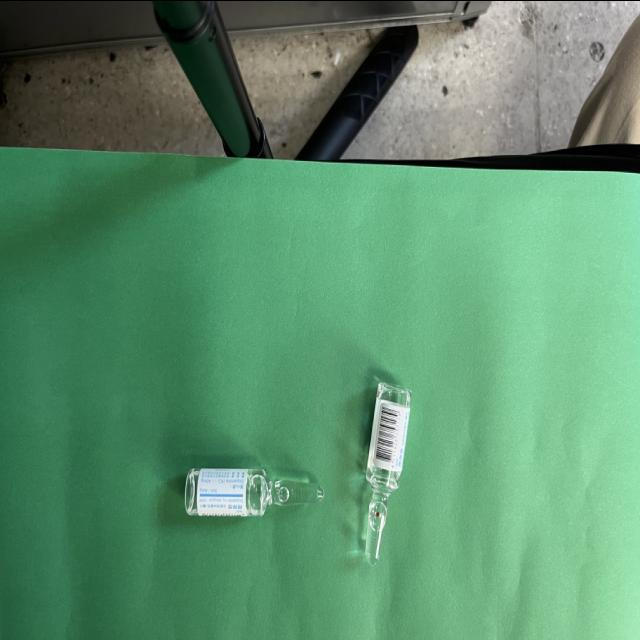Ampoules: (364, 381, 410, 565), (184, 467, 324, 516)
